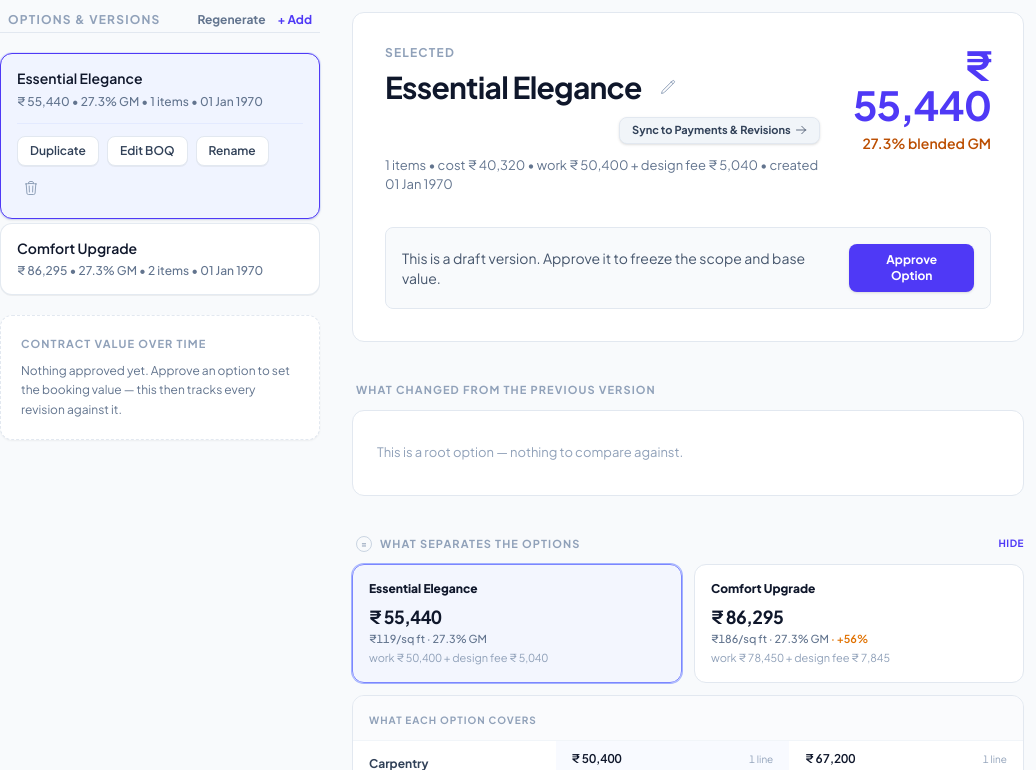
Test: Pricing & Tiers: approving and syncing › Approve records who approved it and when
Click the button "Approve Option".
click(912, 268)  # box [850,244,974,292]
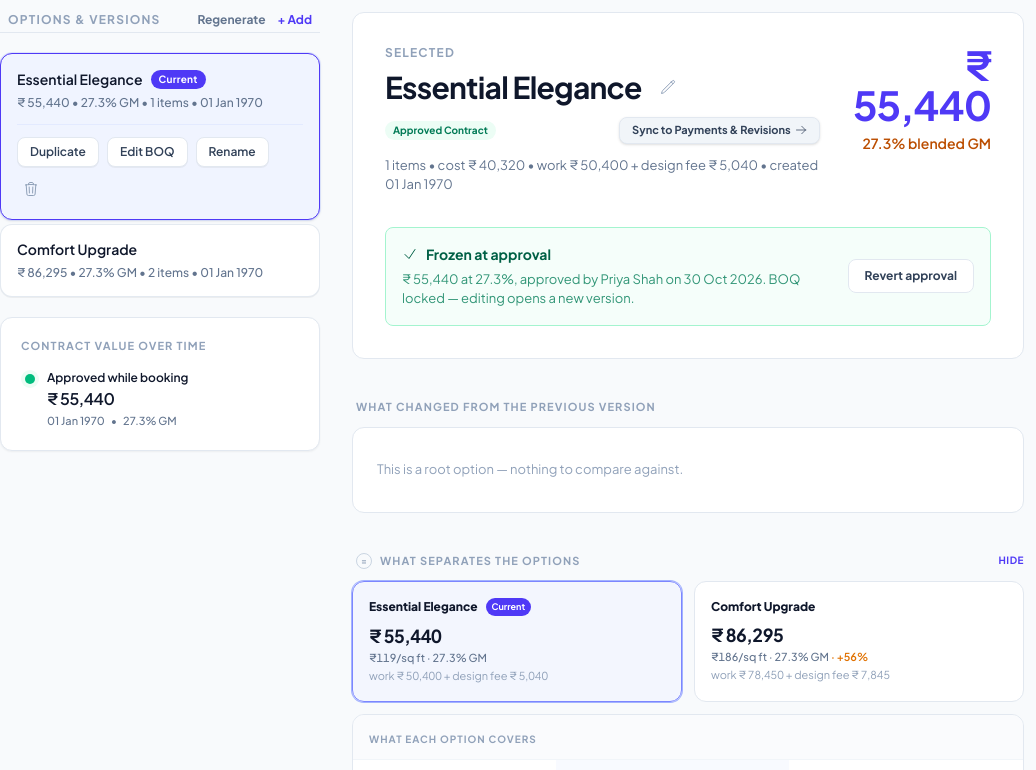
expect the text "approved by Priya Shah on" is shown: met, box [520,270,763,286]
